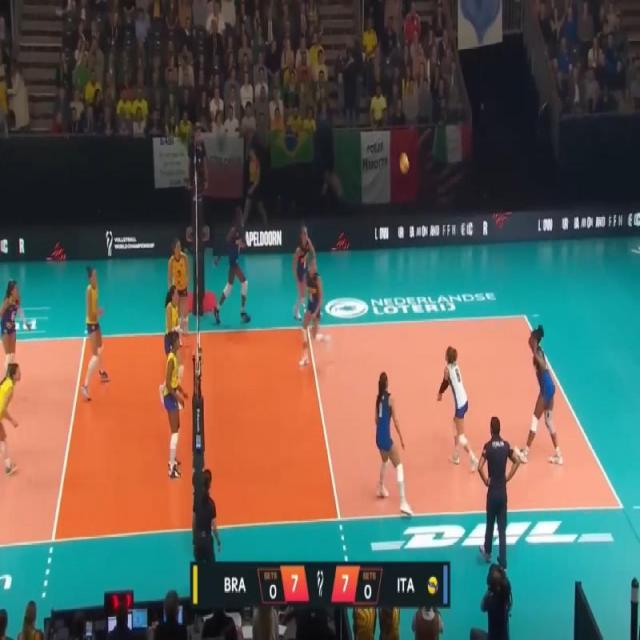volleyball: (398, 152, 410, 176)
